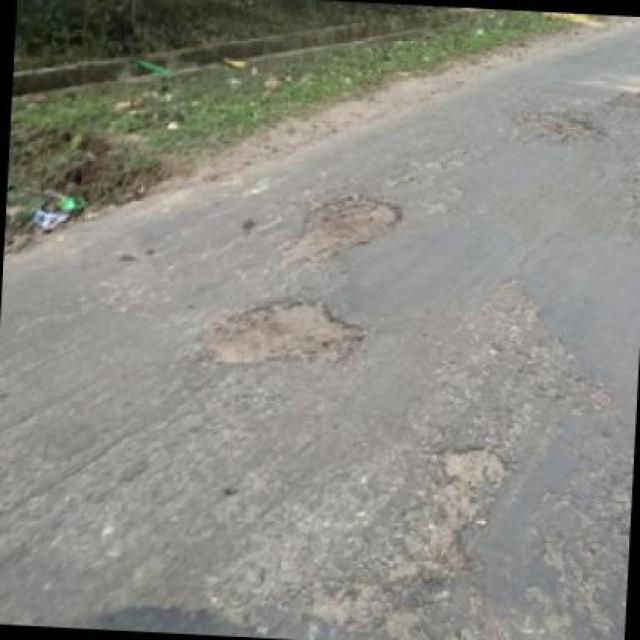pothole1: (205, 290, 368, 376), (284, 188, 408, 272), (437, 438, 515, 496), (521, 106, 604, 149), (606, 85, 639, 117)
